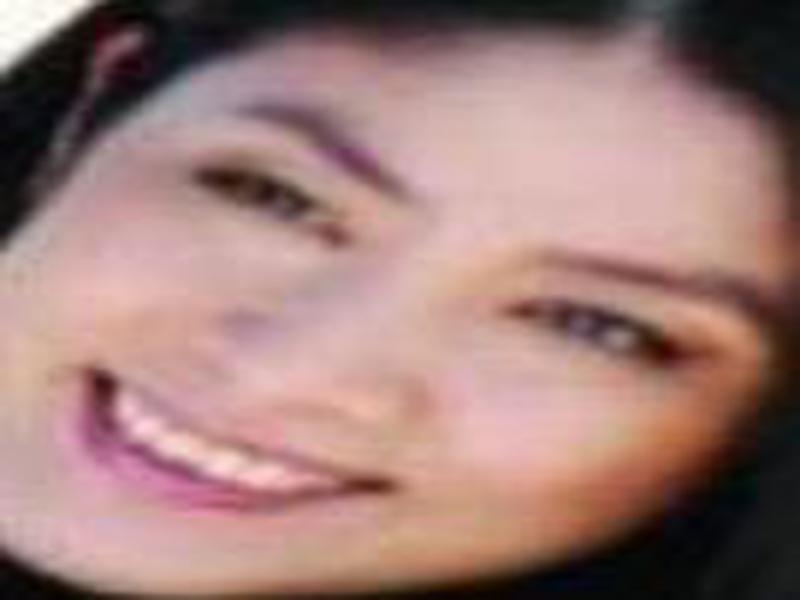without_mask: (4, 33, 793, 600)
